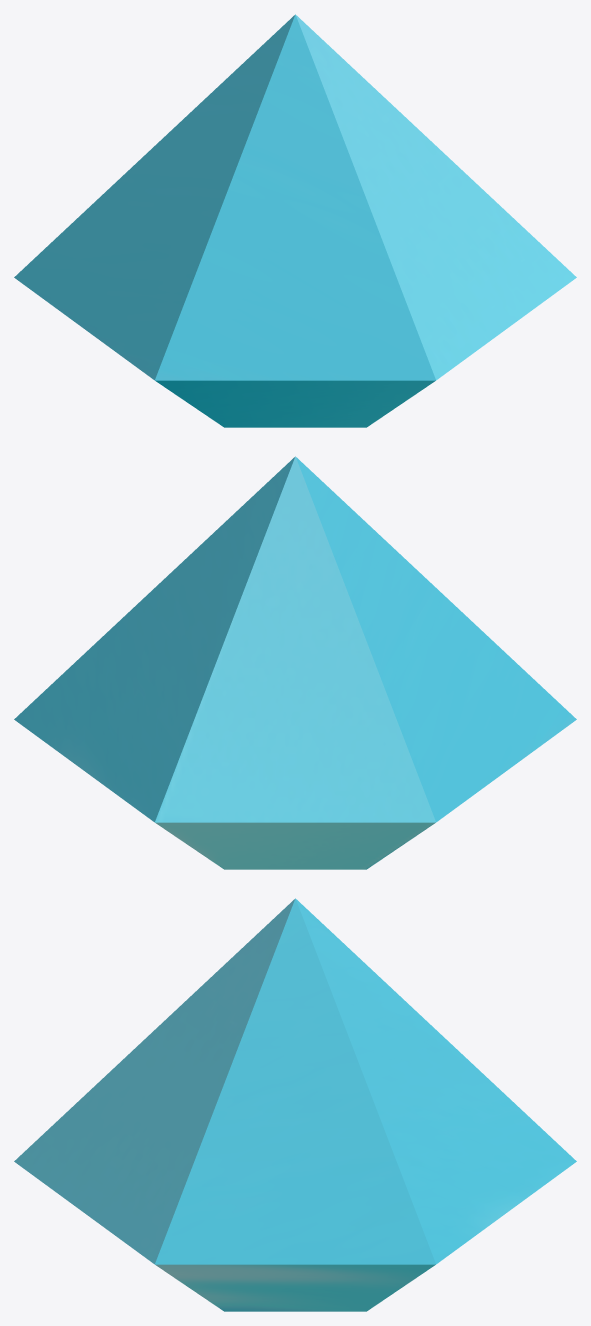
Rendered from diamond.glb.
The picture shows the model from 3 angles, top to bottom: view 1: azimuth 30°, elevation 25°; view 2: azimuth 150°, elevation 25°; view 3: azimuth 270°, elevation 25°; orthographic projection.
Visible parts, largest first — view 1: diamond; view 2: diamond; view 3: diamond.
Boxes of the visible parts, bbox=[...] form: diamond: bbox=[14, 14, 576, 427]; diamond: bbox=[14, 456, 576, 869]; diamond: bbox=[14, 898, 576, 1311].
Bounding box in the file's own units: 1.73 × 1.42 × 2.
1 material, 1 textured.
